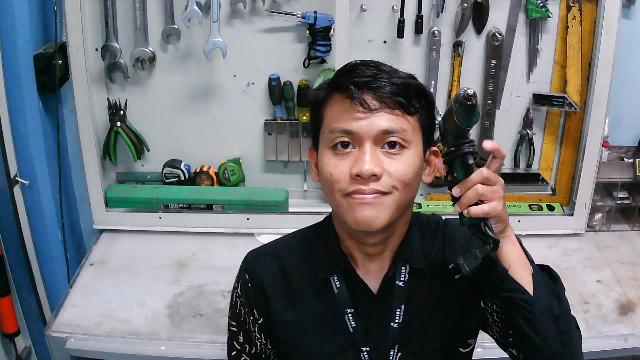gun_lem: (438, 85, 497, 230)
